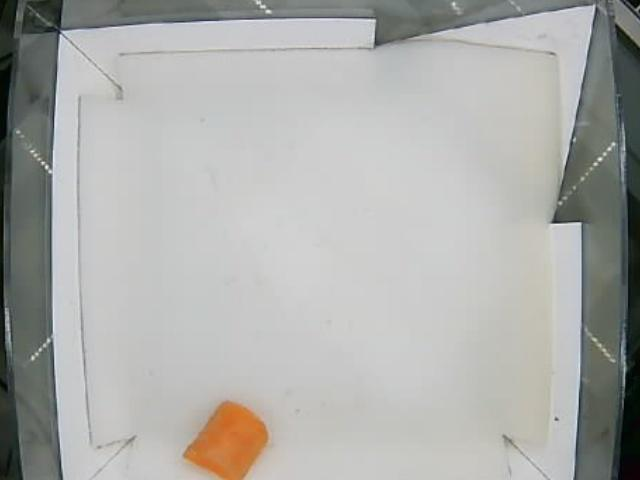Carrot: (180, 400, 270, 480)
